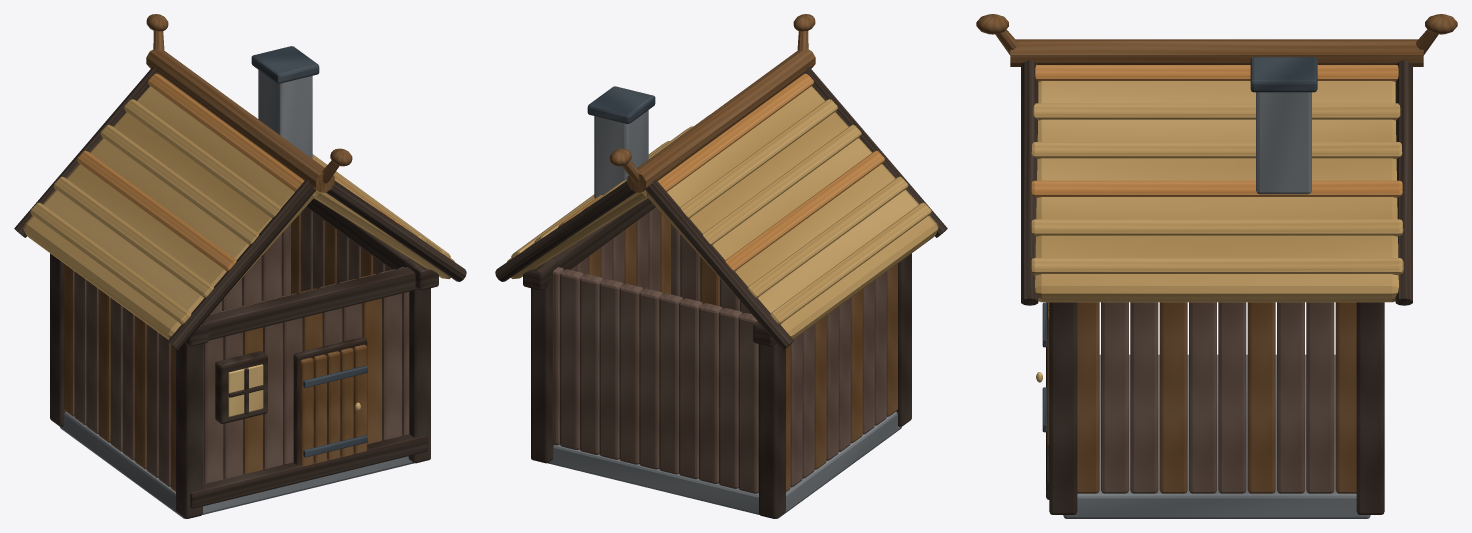
Rendered from timber_house.glb.
The picture shows the model from 3 angles, left to right: view 1: azimuth 30°, elevation 25°; view 2: azimuth 150°, elevation 25°; view 3: azimuth 270°, elevation 25°; orthographic projection. The views are drawn at different scales.
Visible parts, largest first — view 1: TimberHouse; view 2: TimberHouse; view 3: TimberHouse.
Part boxes in pixels (x1,y1,x2,y2): TimberHouse: [14, 14, 466, 518]; TimberHouse: [495, 14, 947, 518]; TimberHouse: [976, 14, 1457, 518].
Size of the model in its own units: 2.99 by 3.47 by 3.44.
Materials: 1 (1 with a texture image).
